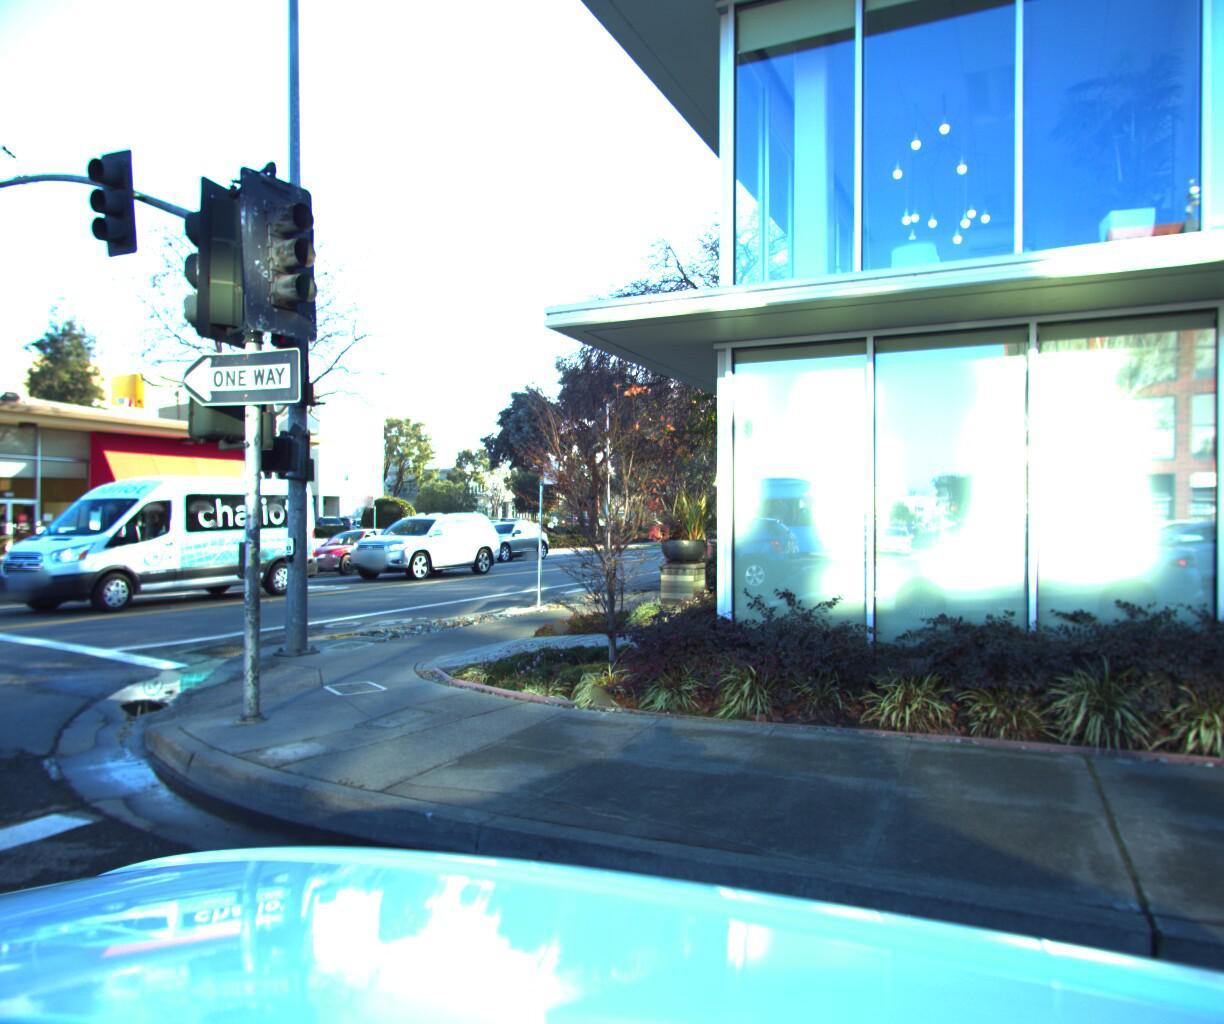car: (0, 460, 336, 621), (334, 504, 504, 580), (279, 519, 421, 577), (456, 504, 565, 555)
